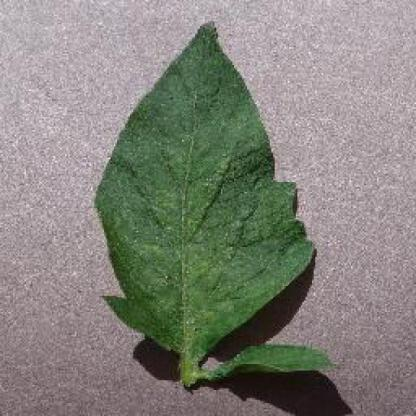Tomato_Spider_Mites: (95, 21, 335, 373)
